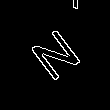N_SE: (24, 23, 86, 87)
